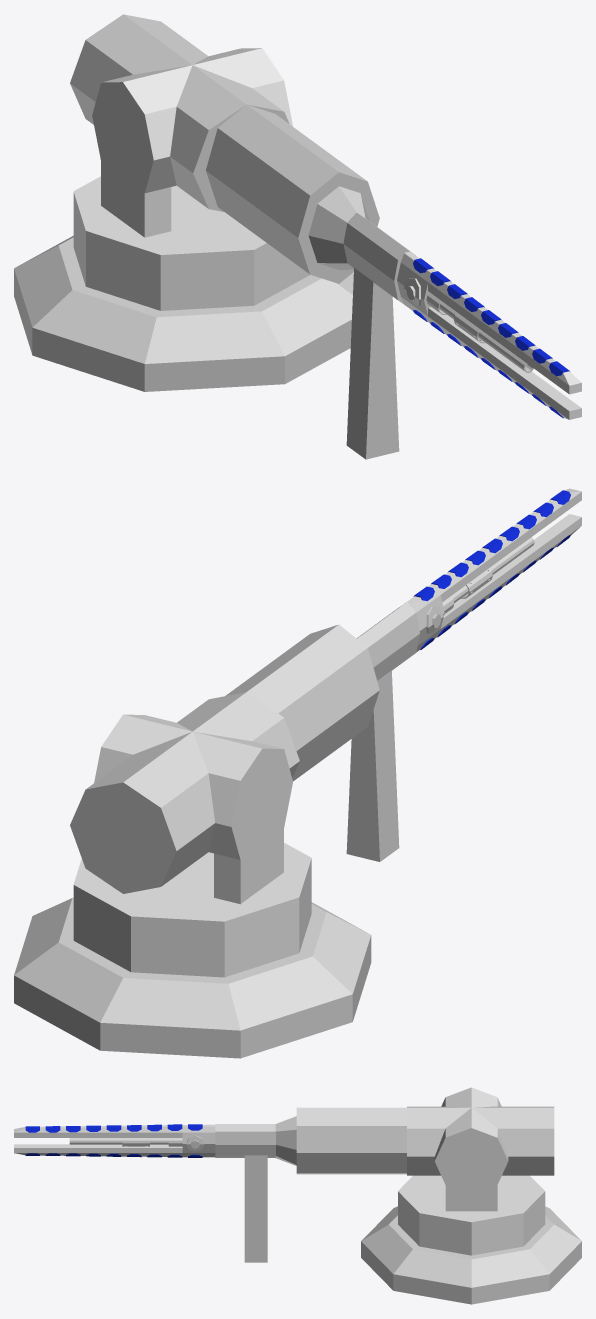
Rendered from RailGunglbMK2.glb.
3 renders of one model, top to bottom at view 1: azimuth 30°, elevation 25°; view 2: azimuth 150°, elevation 25°; view 3: azimuth 270°, elevation 25°, orthographic. The views are drawn at different scales.
Visible parts, largest first — view 1: BarrelBaseMK2, WholeBaseMK2, BaseRotatorMK2, RotatorMK2, GripMK2, ChargerTopMk2, ChargerBottomMk2, BarrelMk2; view 2: BarrelBaseMK2, WholeBaseMK2, BaseRotatorMK2, RotatorMK2, GripMK2, ChargerTopMk2, ChargerBottomMk2; view 3: BarrelBaseMK2, WholeBaseMK2, BaseRotatorMK2, RotatorMK2, GripMK2, ChargerTopMk2, ChargerBottomMk2, BarrelMk2.
Boxes of the visible parts, x1,y1,x2,y2 form: BarrelBaseMK2: (70, 14, 430, 315); WholeBaseMK2: (14, 235, 353, 391); BaseRotatorMK2: (73, 162, 310, 310); RotatorMK2: (92, 48, 292, 193); GripMK2: (346, 268, 399, 459); ChargerTopMk2: (401, 251, 581, 394); ChargerBottomMk2: (401, 297, 581, 419); BarrelMk2: (439, 302, 533, 372); BarrelBaseMK2: (70, 595, 444, 893); WholeBaseMK2: (14, 897, 371, 1058); BaseRotatorMK2: (73, 829, 311, 977); RotatorMK2: (94, 714, 292, 860); GripMK2: (346, 670, 399, 861); ChargerTopMk2: (406, 488, 581, 612); ChargerBottomMk2: (416, 514, 581, 652); BarrelBaseMK2: (182, 1106, 554, 1175); WholeBaseMK2: (361, 1206, 581, 1304); BaseRotatorMK2: (398, 1175, 545, 1255); RotatorMK2: (434, 1087, 508, 1194); GripMK2: (244, 1155, 267, 1262); ChargerTopMk2: (14, 1124, 215, 1137); ChargerBottomMk2: (14, 1144, 215, 1157); BarrelMk2: (69, 1138, 168, 1144).
Size of the model in its own units: 6 by 4.5 by 15.43.
